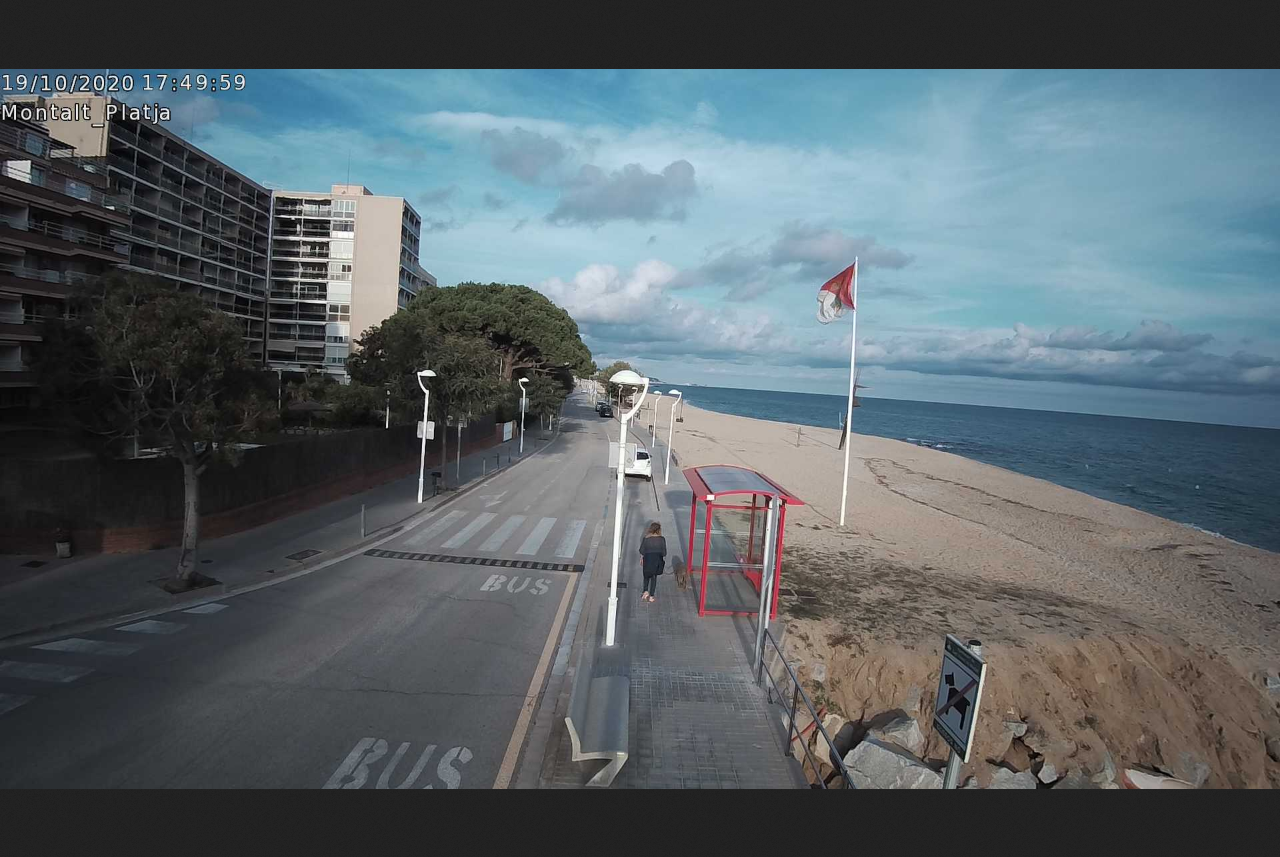yes: (818, 260, 860, 318)
